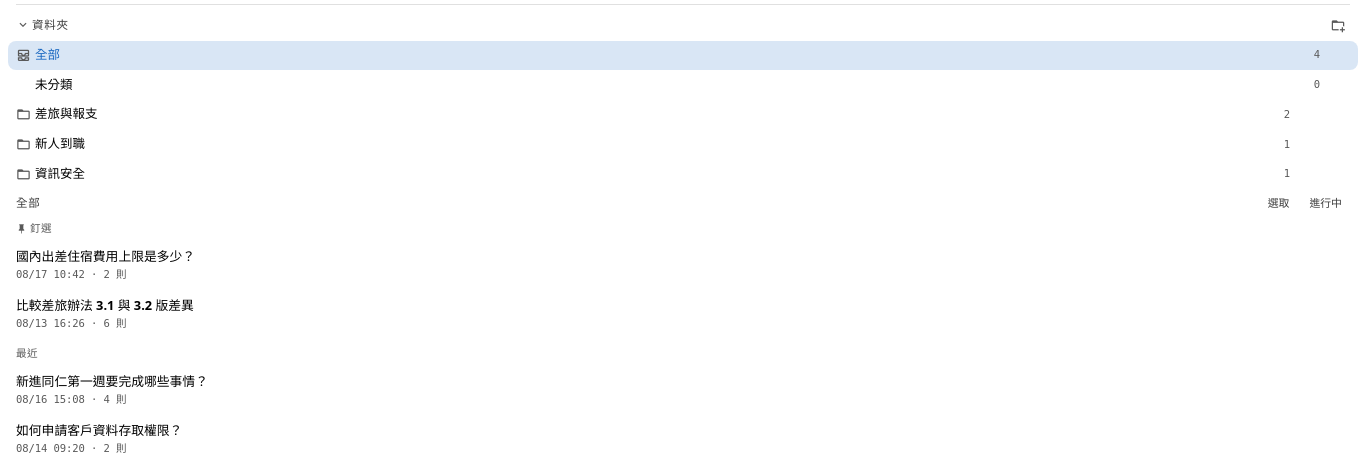
ConversationHistoryPanel › should explain the empty state instead of showing a bare blank folder
Click the button with class "folder-open" showing "未分類 0": coordinates (54, 84) left=8, top=71, right=1328, bottom=99
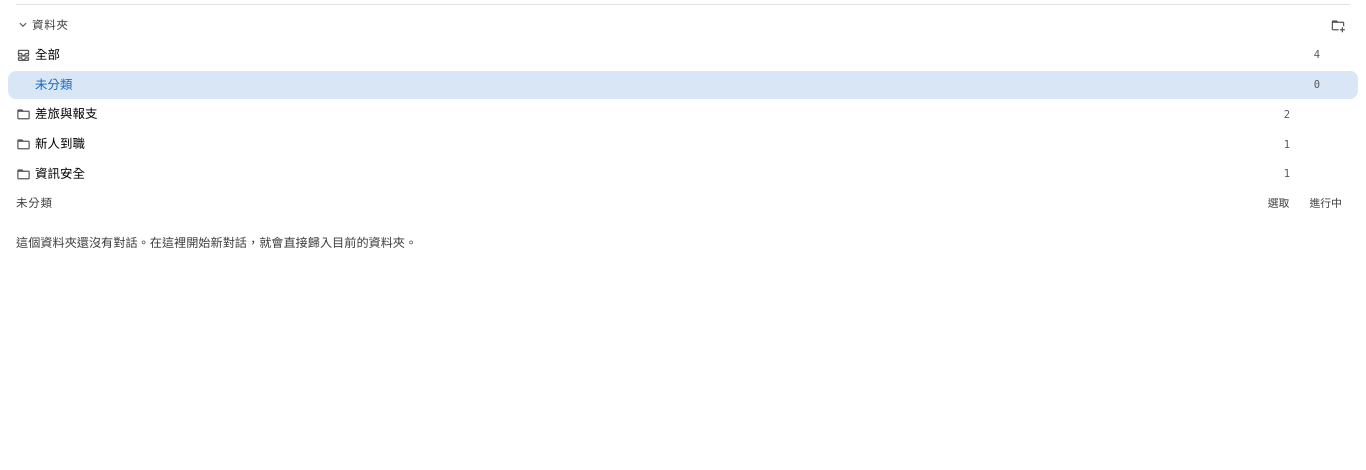
Expected: no list items with class "history-item" are shown
Expected: the text with class "history-empty" shows "這個資料夾還沒有對話", left=16, top=234, right=417, bottom=251
